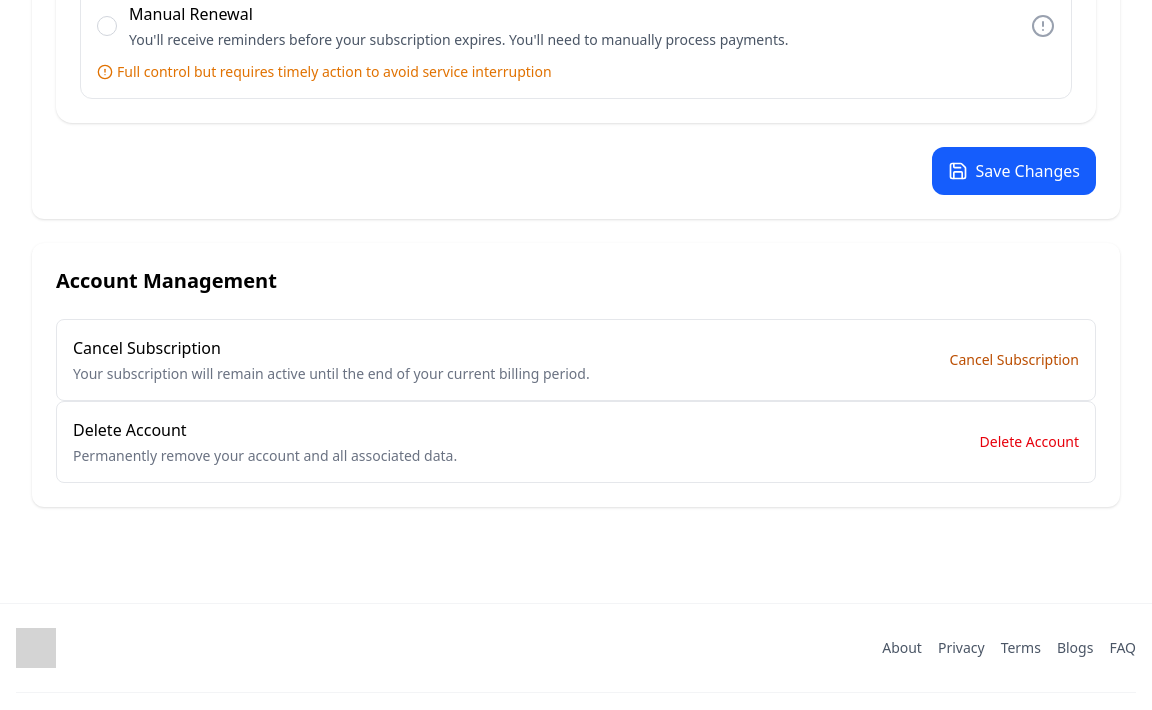
Scenario: AccountInformationPage › handles subscription cancellation process
The width and height of the screenshot is (1152, 710).
(page scrolled)
// Click cancel subscription button
Click the button with test id "cancel-subscription-button": (1014, 360) [950, 350, 1079, 370]
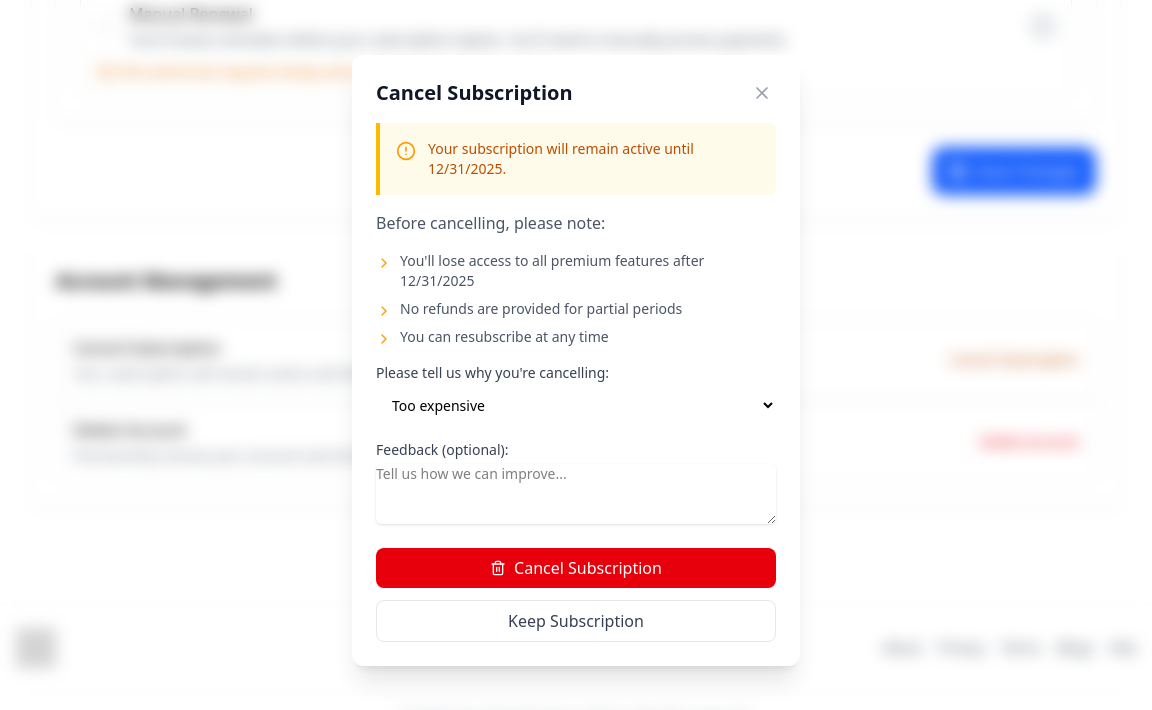
// Fill in reason and feedback
Select "Too expensive" in the dropdown with test id "cancellation-reason-select": (576, 405) [376, 386, 776, 424]
In the text box with test id "cancellation-feedback-textarea": (576, 494) [376, 464, 776, 524], type "The price is too high for me"
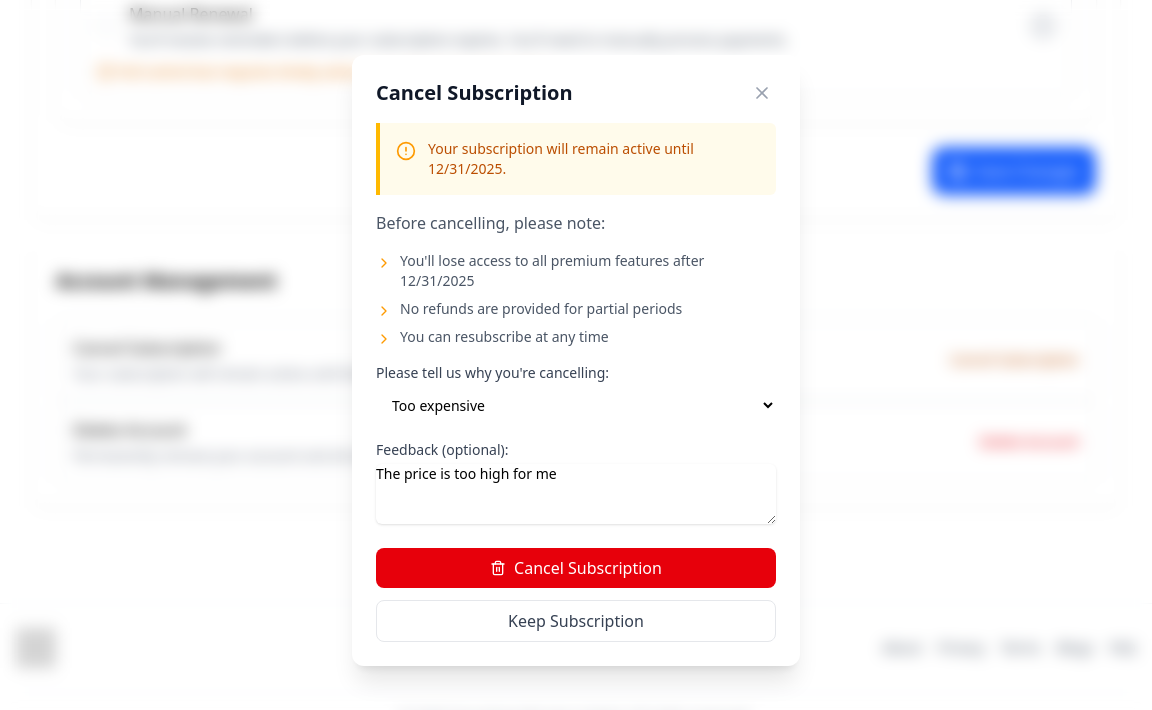
// Click confirm cancellation button
Click the button with test id "confirm-cancel-subscription-button": (576, 568) [376, 548, 776, 588]
(page scrolled)
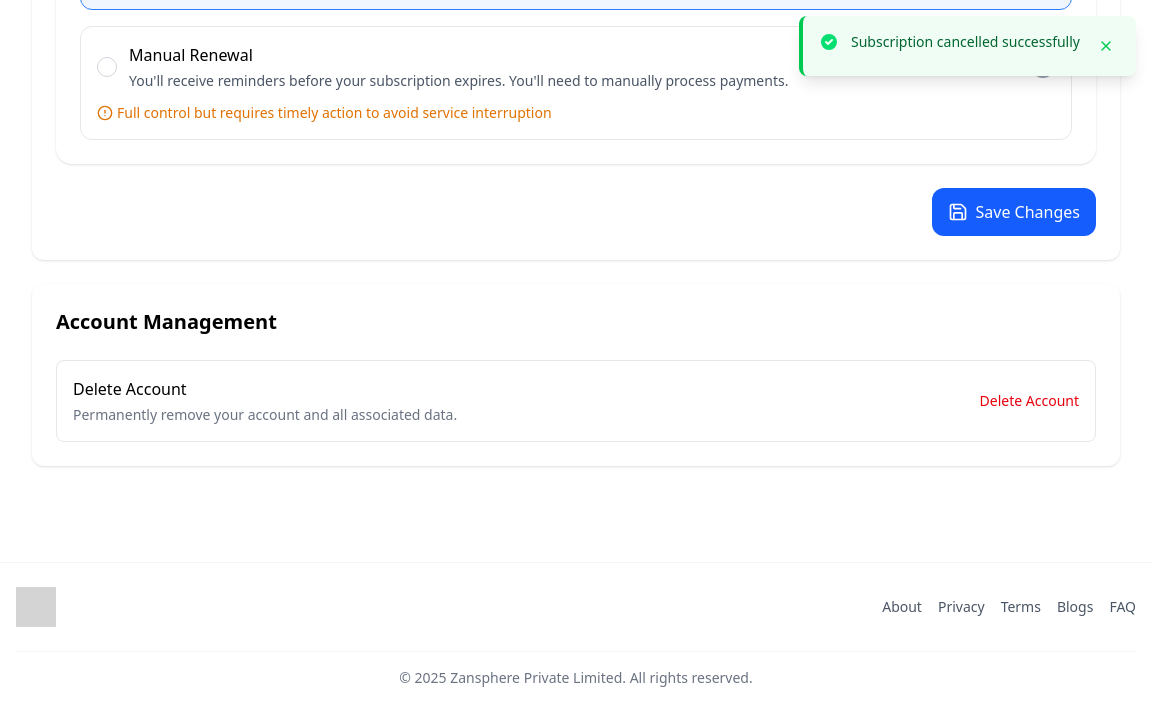
Expected: the element with test id "notification-alert" is shown, [799, 16, 1136, 76]
